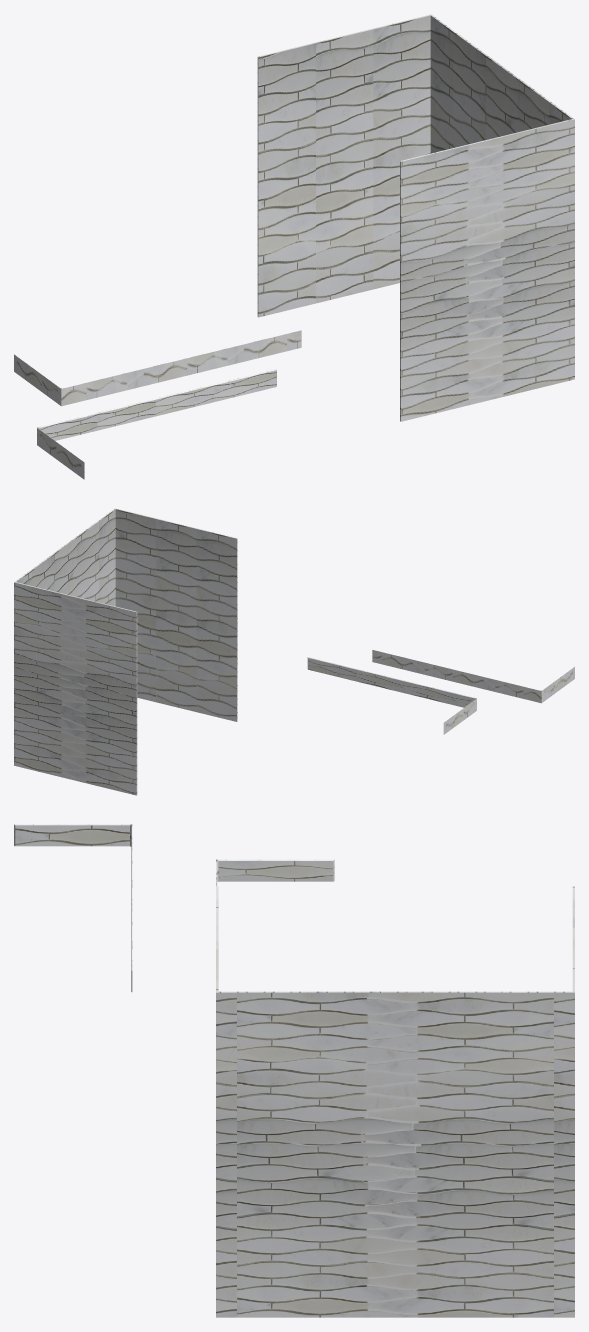
Rendered from 2345_bathroom_BP_Marble_Winter_Frost.gltf.
The picture shows the model from 3 angles, top to bottom: view 1: azimuth 30°, elevation 25°; view 2: azimuth 150°, elevation 25°; view 3: azimuth 270°, elevation 25°; orthographic projection. The views are drawn at different scales.
Visible parts, largest first — view 1: Marble_Winter_Frost.002; view 2: Marble_Winter_Frost.002; view 3: Marble_Winter_Frost.002.
Part boxes in pixels (x1,y1,x2,y2): Marble_Winter_Frost.002: (14,14,574,479); Marble_Winter_Frost.002: (14,508,574,795); Marble_Winter_Frost.002: (14,824,574,1317).
Size of the model in its own units: 6.9 by 3 by 4.69.
1 material, 1 textured.
